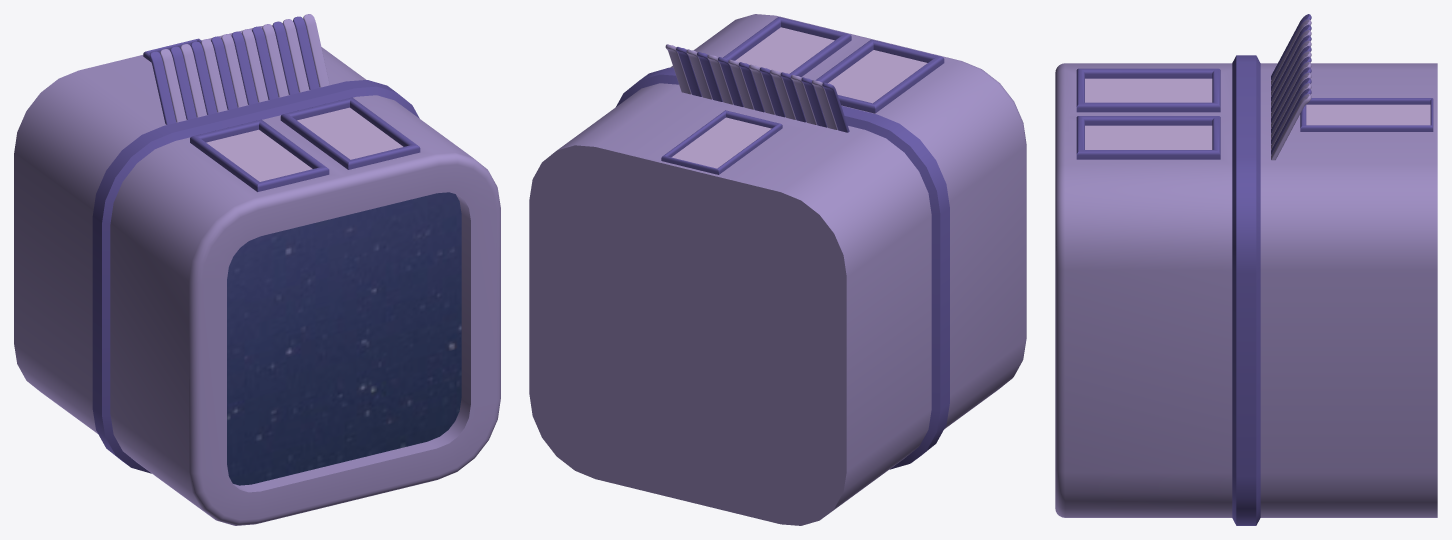
File: Store2.fbx
3 views of the same model, side by side, from view 1: azimuth 30°, elevation 25°; view 2: azimuth 150°, elevation 25°; view 3: azimuth 270°, elevation 25° (orthographic). The views are drawn at different scales.
Visible parts, largest first — view 1: Plane.001; view 2: Plane.001; view 3: Plane.001.
Part boxes in pixels (box(x1,y1,x2,y2)): Plane.001: box(14, 14, 500, 525); Plane.001: box(529, 14, 1026, 525); Plane.001: box(1055, 14, 1437, 525).
Size of the model in its own units: 414 by 477 by 397.
